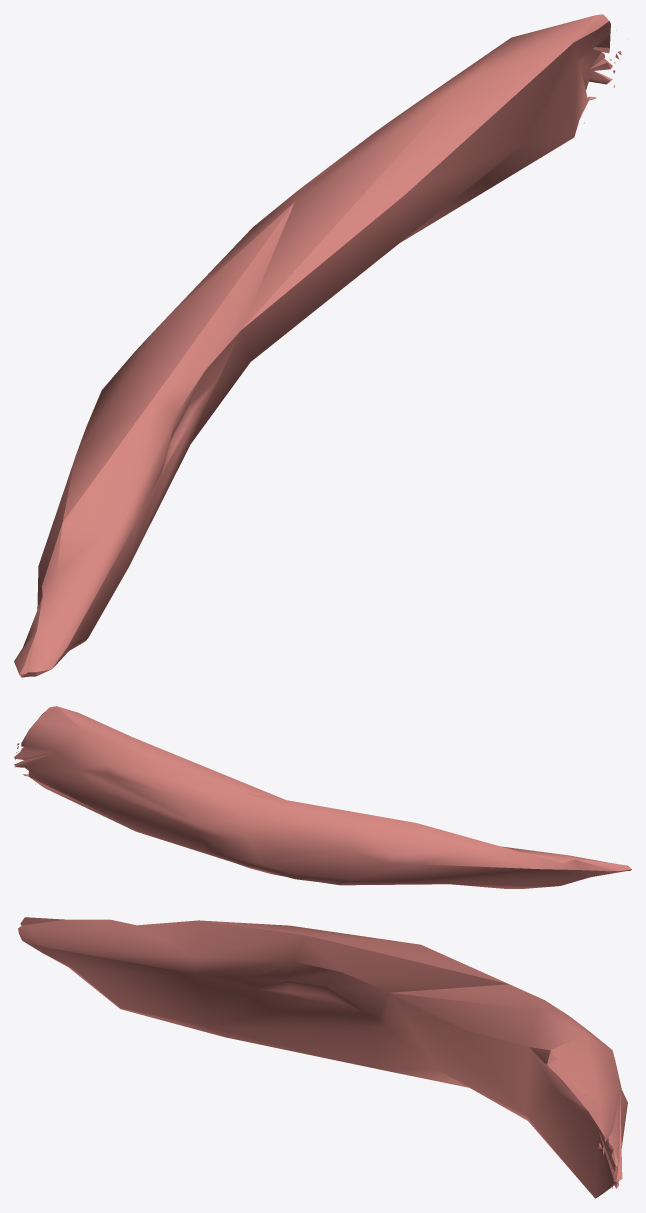
File: fma22334_fj1417.glb
3 renders of one model, top to bottom at view 1: azimuth 30°, elevation 25°; view 2: azimuth 150°, elevation 25°; view 3: azimuth 270°, elevation 25°, orthographic. The views are drawn at different scales.
Visible parts, largest first — view 1: FMA22334_FJ1417; view 2: FMA22334_FJ1417; view 3: FMA22334_FJ1417.
Boxes of the visible parts, <box> form: FMA22334_FJ1417: <box>14,14,621,677</box>; FMA22334_FJ1417: <box>14,706,631,888</box>; FMA22334_FJ1417: <box>18,917,627,1198</box>.
Size of the model in its own units: 0.0799 by 0.027 by 0.0449.
